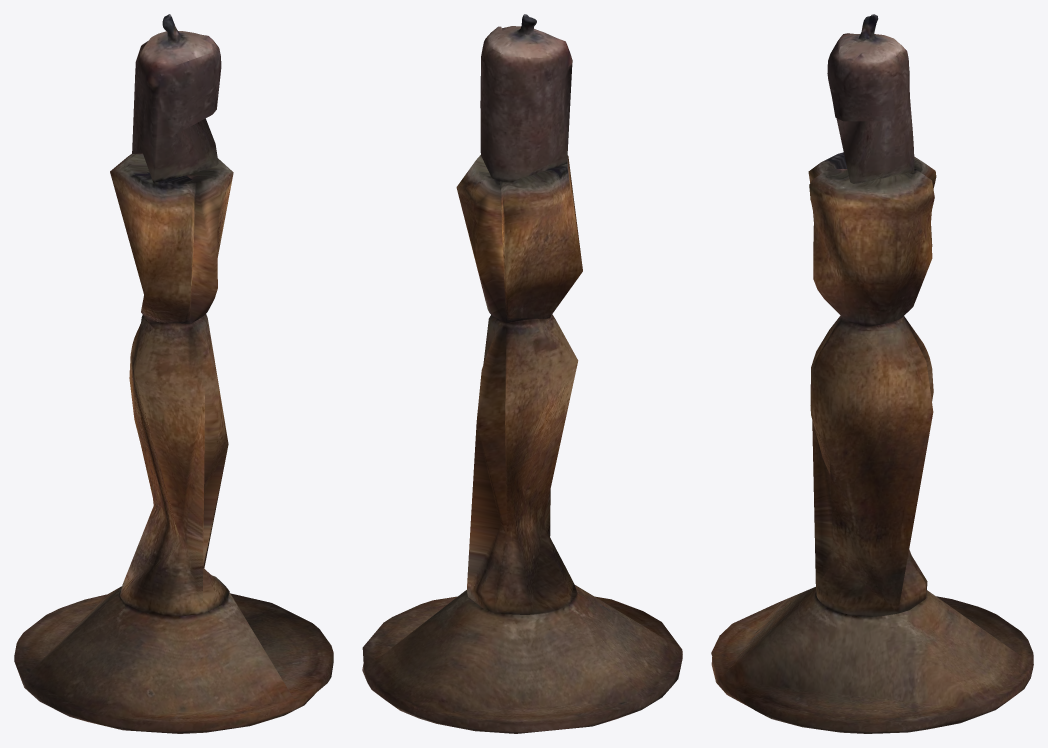
The model's file is wooden_candlestick.6c81326f3d.glb.
3 renders of one model, left to right at view 1: azimuth 30°, elevation 25°; view 2: azimuth 150°, elevation 25°; view 3: azimuth 270°, elevation 25°, orthographic.
Parts seen in each view (by area): view 1: wooden_candlestick; view 2: wooden_candlestick; view 3: wooden_candlestick.
Boxes of the visible parts, left/top/right/bottom form: wooden_candlestick: left=14, top=14, right=333, bottom=733; wooden_candlestick: left=362, top=14, right=682, bottom=733; wooden_candlestick: left=711, top=14, right=1033, bottom=733.
Bounding box in the file's own units: 0.0971 × 0.2196 × 0.0985.
1 material, 1 textured.
